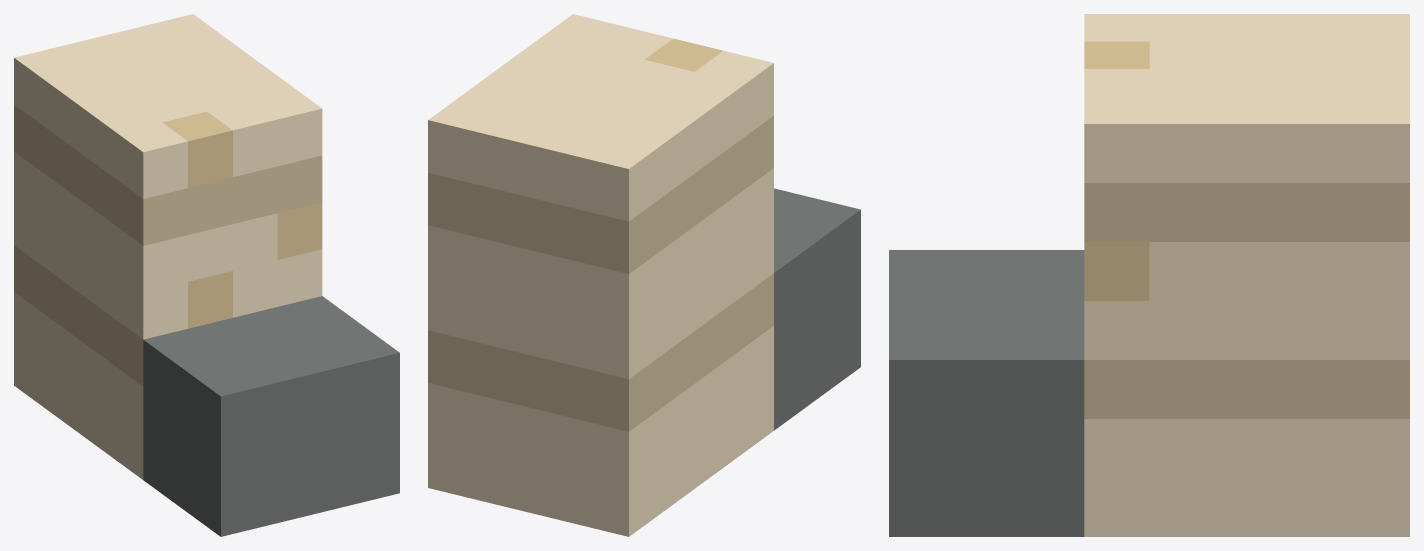
Rendered from Mummy-2.obj.
3 views of the same model, side by side, from view 1: azimuth 30°, elevation 25°; view 2: azimuth 150°, elevation 25°; view 3: azimuth 270°, elevation 25° (orthographic). The views are drawn at different scales.
Bounding box in the file's own units: 0.4 × 0.7 × 0.8.
1 material, 1 textured.
